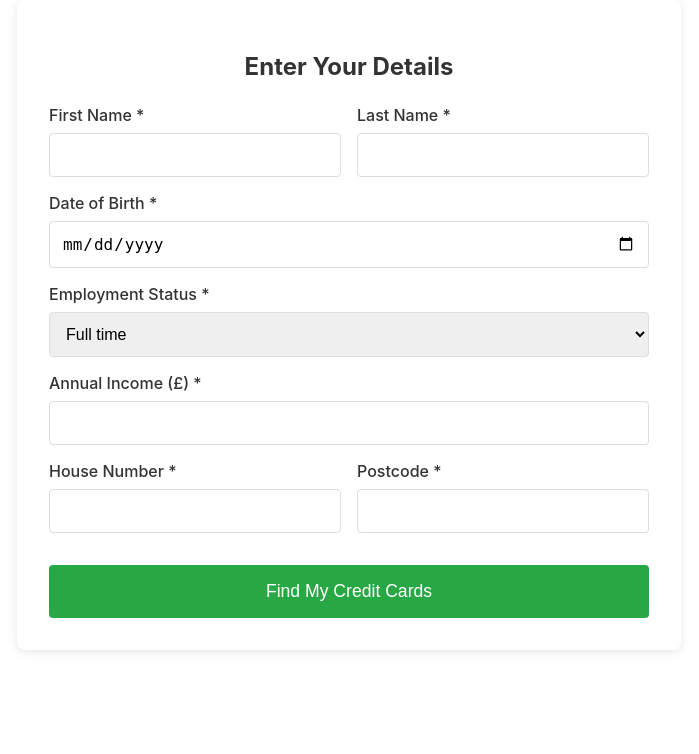
Test: UserForm › shows validation errors for empty required fields
Click the button "Find My Credit Cards".
click(349, 591)  # box left=49, top=565, right=649, bottom=618
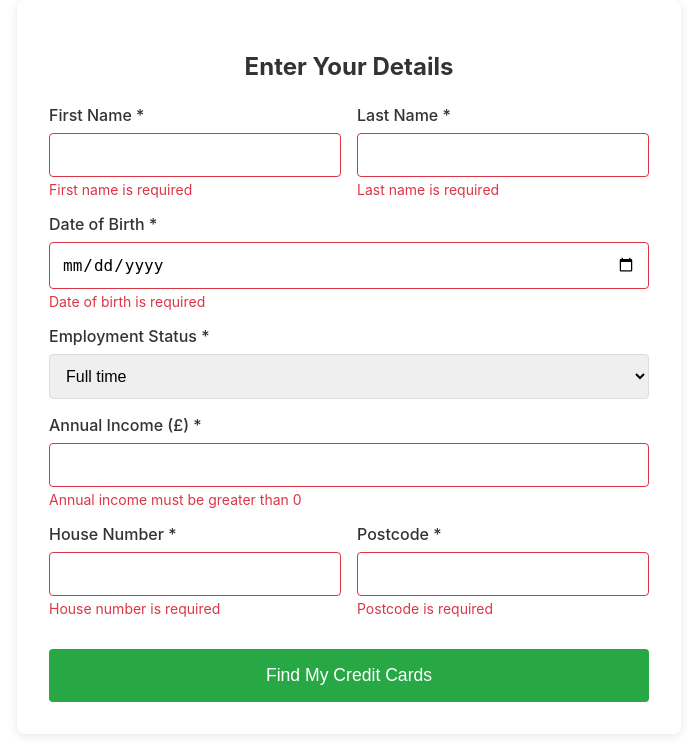
Result: the text "First name is required" is shown at left=49, top=181, right=192, bottom=198
Result: the text "Last name is required" is shown at left=357, top=181, right=499, bottom=198
Result: the text "Date of birth is required" is shown at left=49, top=293, right=205, bottom=310
